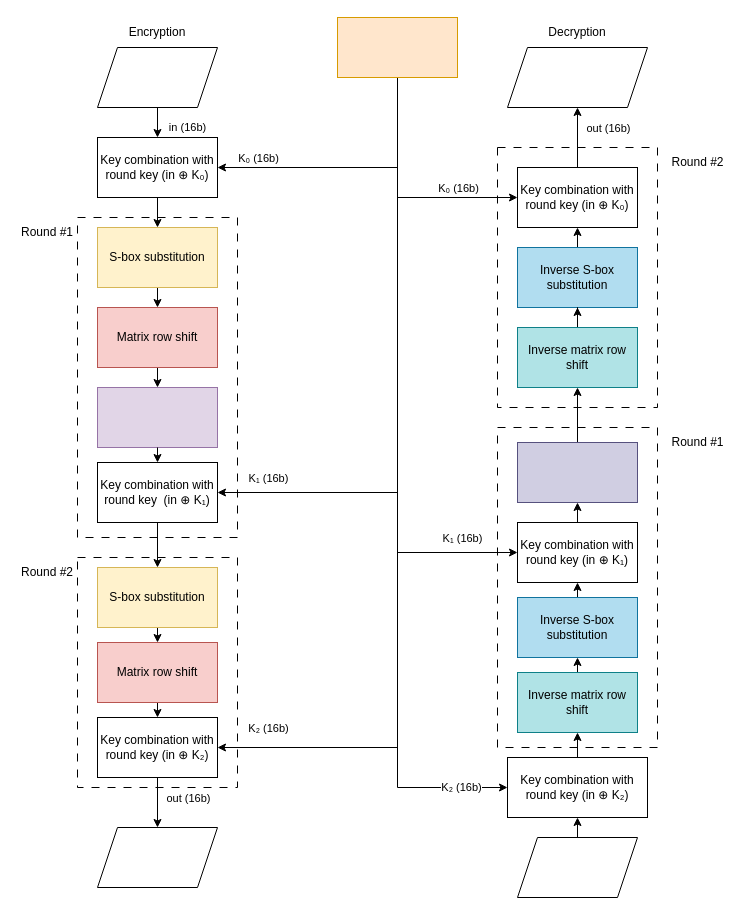
The diagram is 754 pixels wide and 915 high, and some of its shapes have lost their labels. Each missing label, with the centre of its shape:
Cipher text output: point 157,857
Encryted text: point 577,867
Galois multiplication of matrix: point 157,417
Generation of round keys: point 397,47
Output plain text: point 577,77
Plain text: point 157,77
Reverse Galois multiplication of matrix: point 577,472
